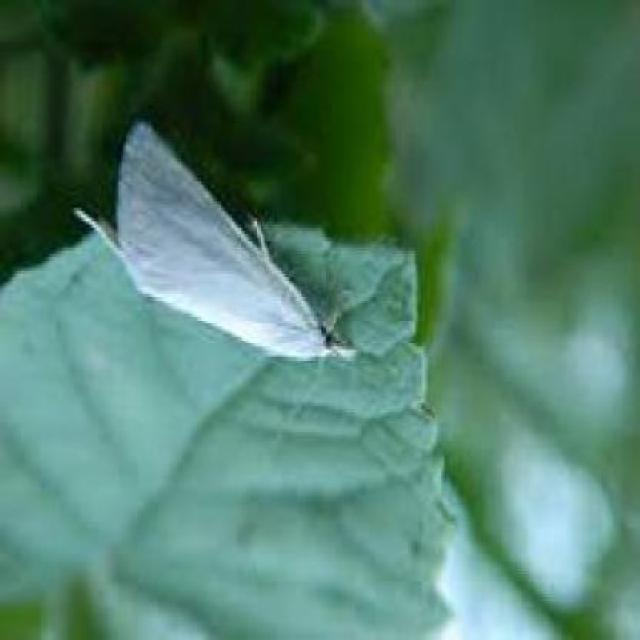stem-borer: (68, 112, 360, 363)
